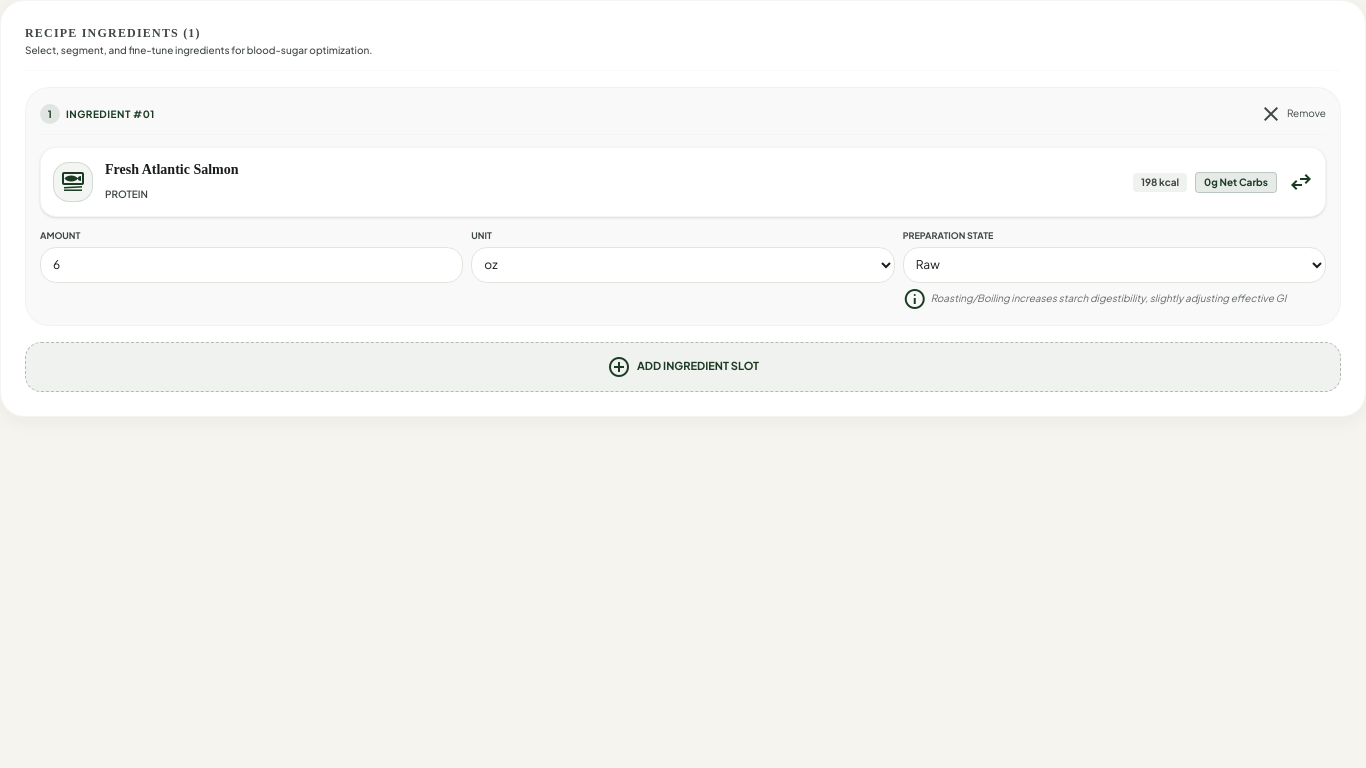
IngredientSelector component › opens segmented picker modal when clicking ingredient card
Click the heading "Fresh Atlantic Salmon". click: (172, 170)
box: [105,160,238,180]
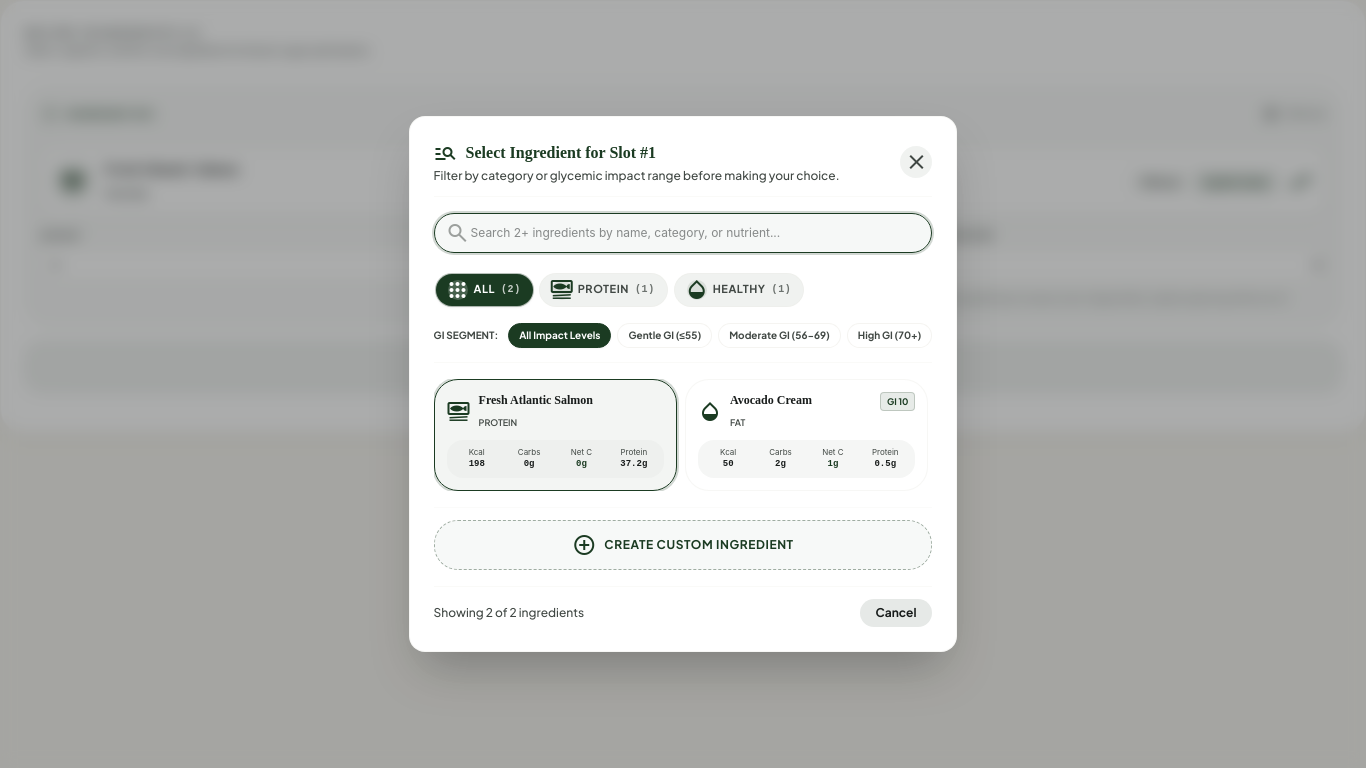
Expected: the heading "Select Ingredient for Slot #1" is shown, [434,140,656,168]
Expected: the button "All Impact Levels" is shown, [508,322,612,348]
